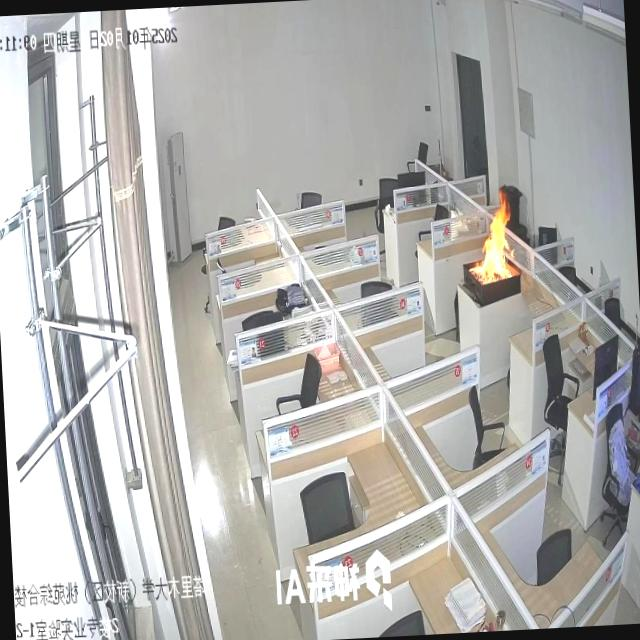fire: (459, 182, 526, 315)
